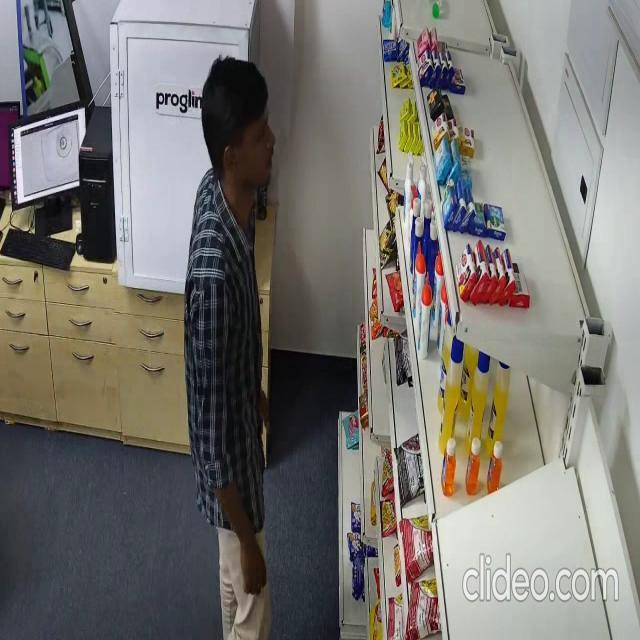normal: (185, 50, 279, 640)
